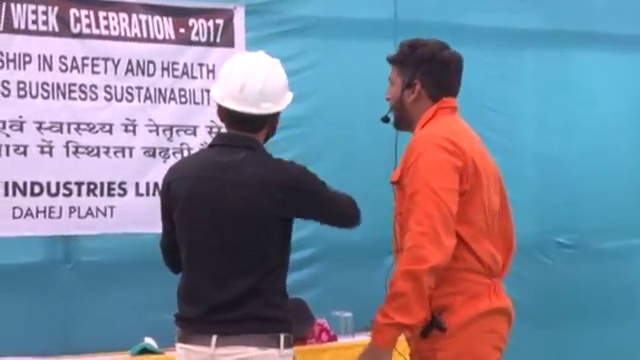helmet: (209, 50, 293, 114)
helmet_off: (380, 38, 467, 134)
helmet_on: (209, 49, 293, 145)
person: (155, 44, 362, 360), (364, 35, 517, 360)
